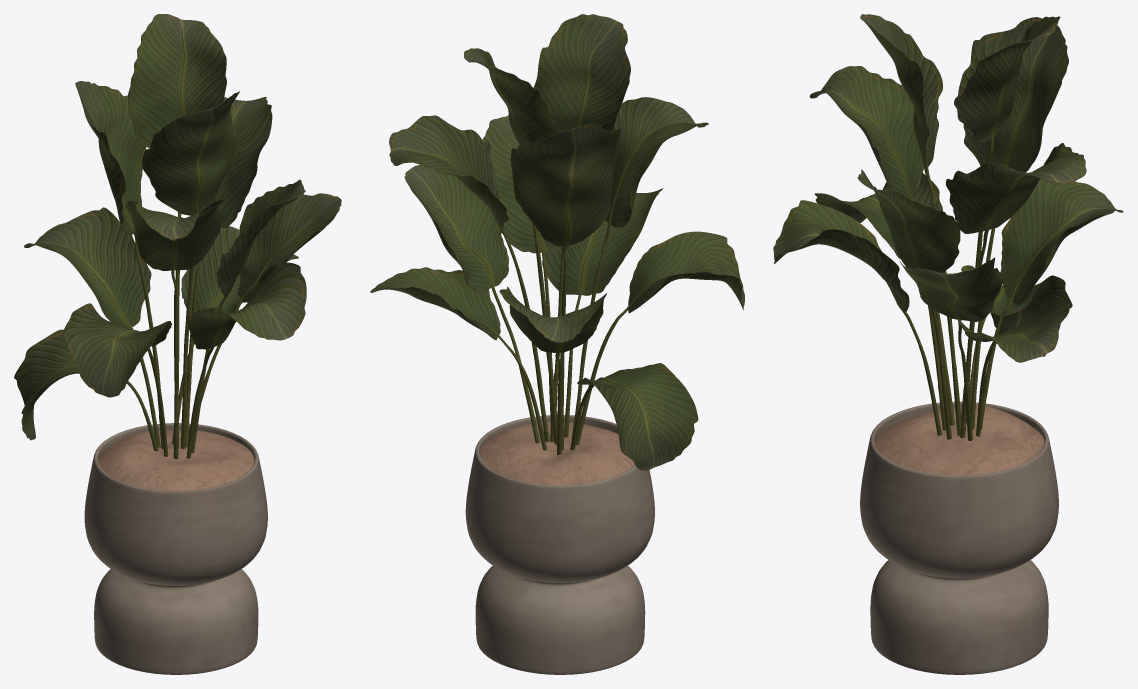
The model's file is Cuban_Cigar_Plant_Pot.glb.
3 views of the same model, side by side, from view 1: azimuth 30°, elevation 25°; view 2: azimuth 150°, elevation 25°; view 3: azimuth 270°, elevation 25° (orthographic). The views are drawn at different scales.
Parts seen in each view (by area): view 1: Indoor Plant - Cuban Cigar.001, Indoor Plant - Cuban Cigar.002; view 2: Indoor Plant - Cuban Cigar.001, Indoor Plant - Cuban Cigar.002; view 3: Indoor Plant - Cuban Cigar.001, Indoor Plant - Cuban Cigar.002.
Part boxes in pixels (x1,y1,x2,y2): Indoor Plant - Cuban Cigar.001: (14,14,341,440); Indoor Plant - Cuban Cigar.002: (40,26,326,674); Indoor Plant - Cuban Cigar.001: (370,14,744,470); Indoor Plant - Cuban Cigar.002: (404,36,724,674); Indoor Plant - Cuban Cigar.001: (773,14,1123,362); Indoor Plant - Cuban Cigar.002: (788,35,1104,674).
Size of the model in its own units: 0.8656 by 1.62 by 0.8069.
Materials: 4 (4 with a texture image).
